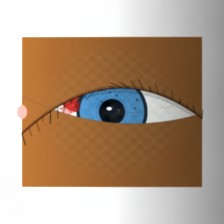hemorrhage_spot: (51, 71, 130, 134)
